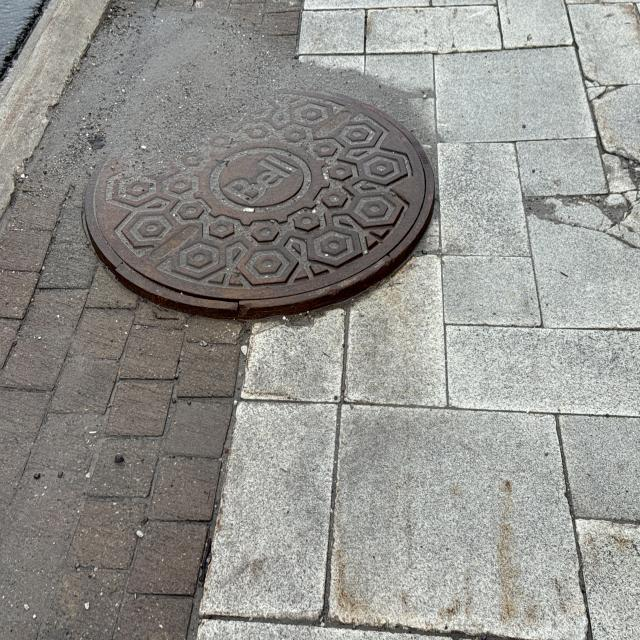Manhole: (83, 81, 435, 318)
